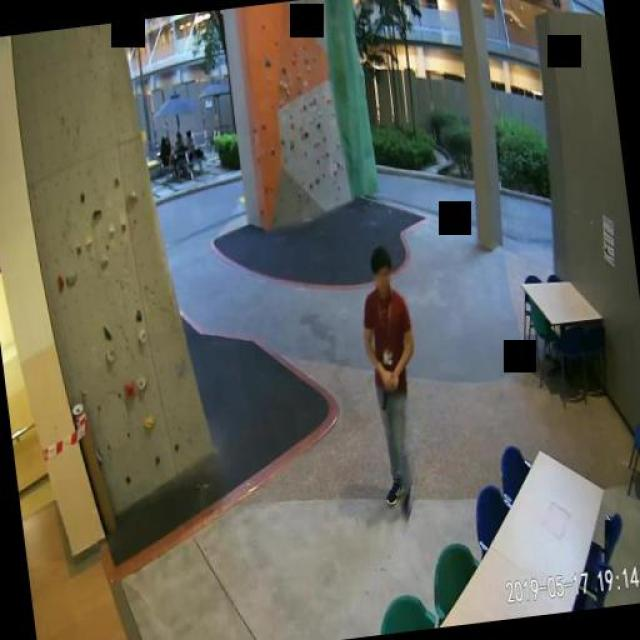gun: (375, 369, 400, 410)
